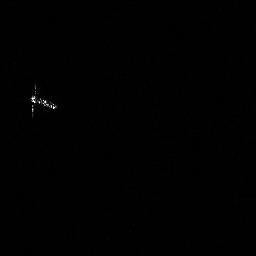ship: (26, 83, 58, 118)
